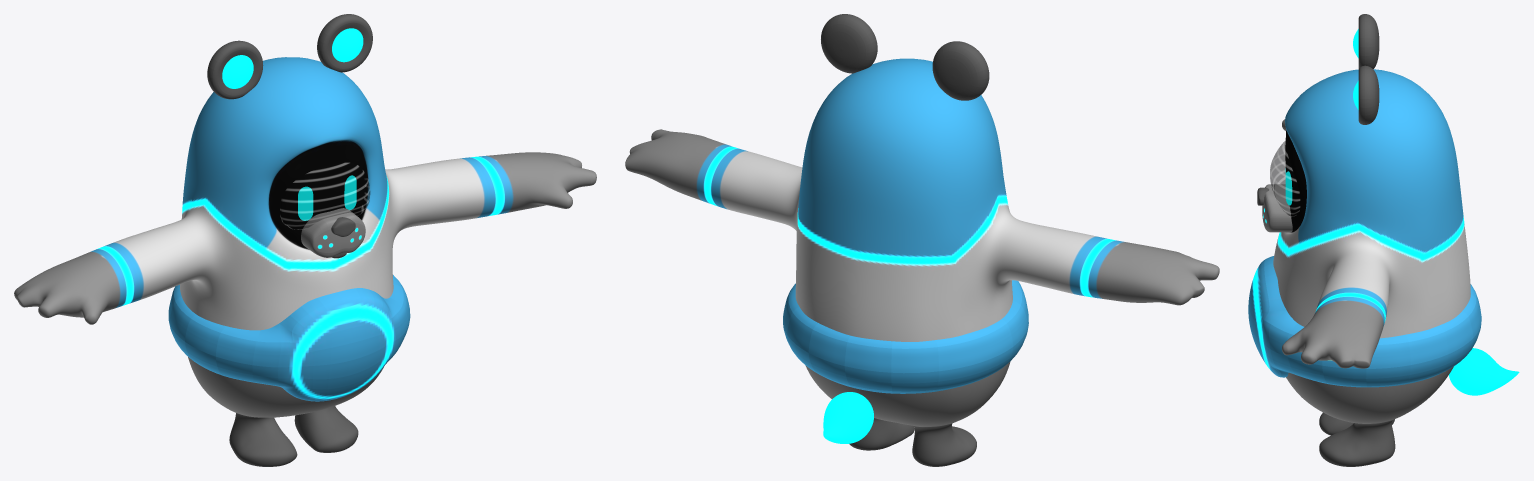
Rendered from fall_guys_-_chilly_bear_gears.glb.
3 views of the same model, side by side, from view 1: azimuth 30°, elevation 25°; view 2: azimuth 150°, elevation 25°; view 3: azimuth 270°, elevation 25° (orthographic). The views are drawn at different scales.
Visible parts, largest first — view 1: FallGuysBody, Belt, EarsBear, Visor, MuzzleBear, FallGuysEyes; view 2: FallGuysBody, Belt, EarsBear, TailBear; view 3: FallGuysBody, Belt, EarsBear, TailBear, Visor, MuzzleBear.
Part boxes in pixels (x1,y1,x2,y2): FallGuysBody: (14, 57, 596, 466); Belt: (168, 275, 410, 401); EarsBear: (207, 14, 372, 99); Visor: (280, 163, 370, 229); MuzzleBear: (301, 208, 365, 258); FallGuysEyes: (298, 175, 356, 220); FallGuysBody: (625, 58, 1219, 466); Belt: (783, 280, 1028, 393); EarsBear: (821, 14, 989, 100); TailBear: (823, 392, 873, 443); FallGuysBody: (1273, 69, 1470, 466); Belt: (1248, 256, 1481, 387); EarsBear: (1353, 14, 1379, 124); TailBear: (1449, 348, 1519, 395); Visor: (1270, 141, 1299, 216); MuzzleBear: (1257, 184, 1292, 232).
Bounding box in the file's own units: 85.92 × 60.41 × 37.13.
Materials: 1 (1 with a texture image).
